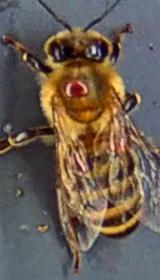varroa_mite: (55, 77, 98, 104)
